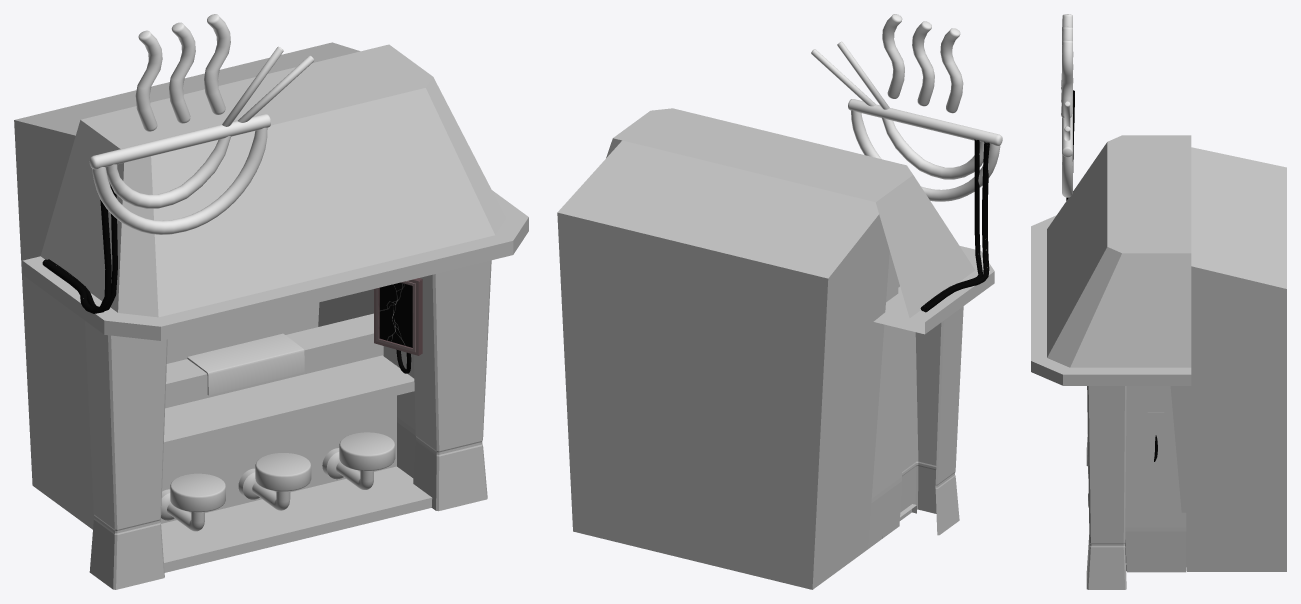
Rendered from RamenShop.fbx.
3 views of the same model, side by side, from view 1: azimuth 30°, elevation 25°; view 2: azimuth 150°, elevation 25°; view 3: azimuth 270°, elevation 25° (orthographic). The views are drawn at different scales.
Parts seen in each view (by area): view 1: Roof, Pillars, Inside, MergedIcon, Ground, Plane.003, Plane.001, Plane.004, Clothj, Screen, Circle.003, Circle.006 (+3 smaller); view 2: Inside, Roof, Pillars, MergedIcon, Inside.001, Inside.002; view 3: Inside, Roof, Pillars, MergedIcon.
Part boxes in pixels (x1=…): Roof: x1=22, y1=44, x2=528, y2=340; Pillars: x1=85, y1=260, x2=491, y2=589; Inside: x1=14, y1=42, x2=373, y2=529; MergedIcon: x1=89, y1=14, x2=314, y2=234; Ground: x1=161, y1=466, x2=432, y2=572; Plane.003: x1=163, y1=355, x2=414, y2=452; Plane.001: x1=160, y1=365, x2=396, y2=523; Plane.004: x1=165, y1=313, x2=383, y2=408; Clothj: x1=187, y1=333, x2=304, y2=395; Screen: x1=374, y1=278, x2=422, y2=355; Circle.003: x1=255, y1=453, x2=311, y2=491; Circle.006: x1=339, y1=432, x2=395, y2=470; Inside: x1=557, y1=140, x2=889, y2=589; Roof: x1=606, y1=108, x2=994, y2=334; Pillars: x1=868, y1=251, x2=963, y2=548; MergedIcon: x1=811, y1=14, x2=1002, y2=201; Inside.001: x1=922, y1=141, x2=989, y2=312; Inside.002: x1=920, y1=139, x2=982, y2=311; Inside: x1=1170, y1=147, x2=1286, y2=571; Roof: x1=1031, y1=135, x2=1191, y2=385; Pillars: x1=1086, y1=386, x2=1186, y2=589; MergedIcon: x1=1061, y1=14, x2=1073, y2=197.
Size of the model in its own units: 624 by 772 by 406.
